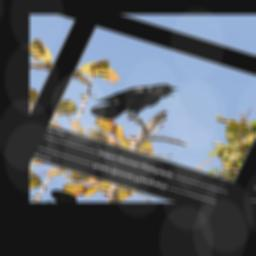Crow: (88, 66, 180, 135)
